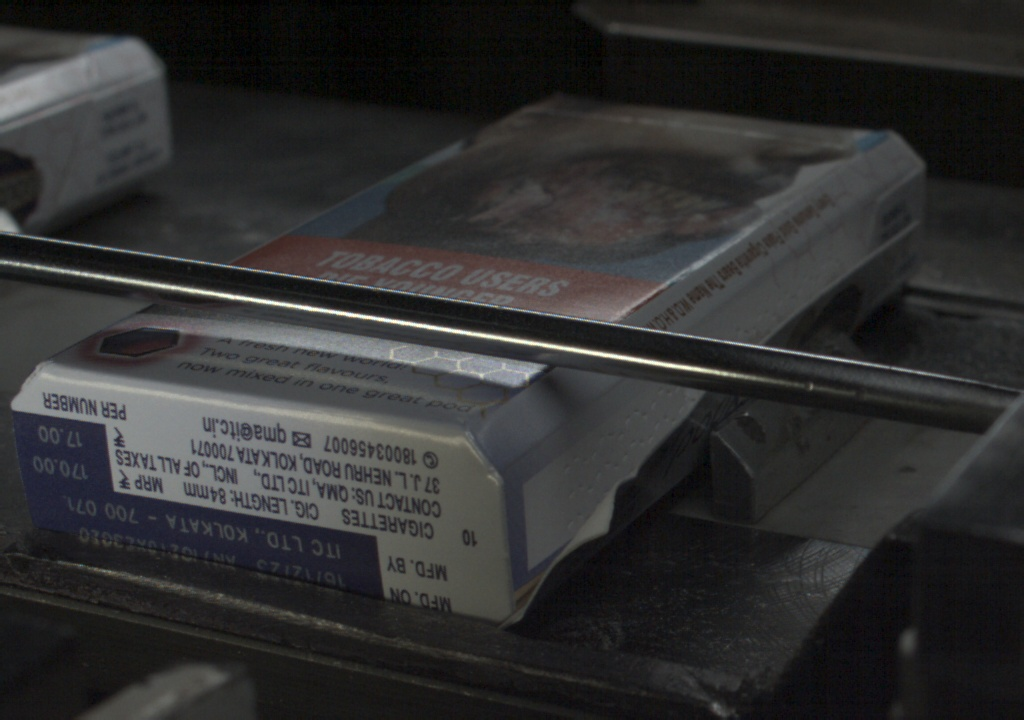g_bottom: (11, 367, 508, 622)
g_label: (24, 491, 383, 595)
g_miter: (874, 162, 922, 203)
ng_lmiter: (584, 388, 671, 514), (508, 446, 579, 593), (698, 270, 785, 333), (785, 206, 868, 269)
price: (17, 417, 110, 489)
